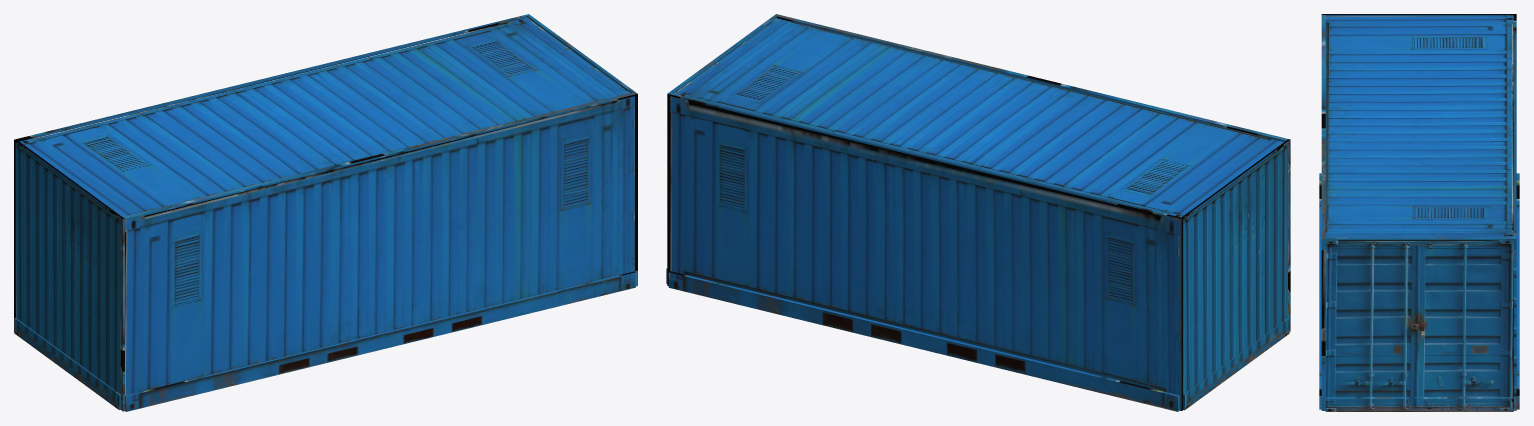
Rendered from konteyner010.fbx.
3 renders of one model, left to right at view 1: azimuth 30°, elevation 25°; view 2: azimuth 150°, elevation 25°; view 3: azimuth 270°, elevation 25°, orthographic. The views are drawn at different scales.
Parts seen in each view (by area): view 1: Cube; view 2: Cube; view 3: Cube.
Part boxes in pixels (bbox=[...]): Cube: bbox=[14, 14, 637, 411]; Cube: bbox=[666, 14, 1290, 411]; Cube: bbox=[1319, 14, 1519, 411].
Bounding box in the file's own units: 1209 × 428 × 452.
1 material, 1 textured.
